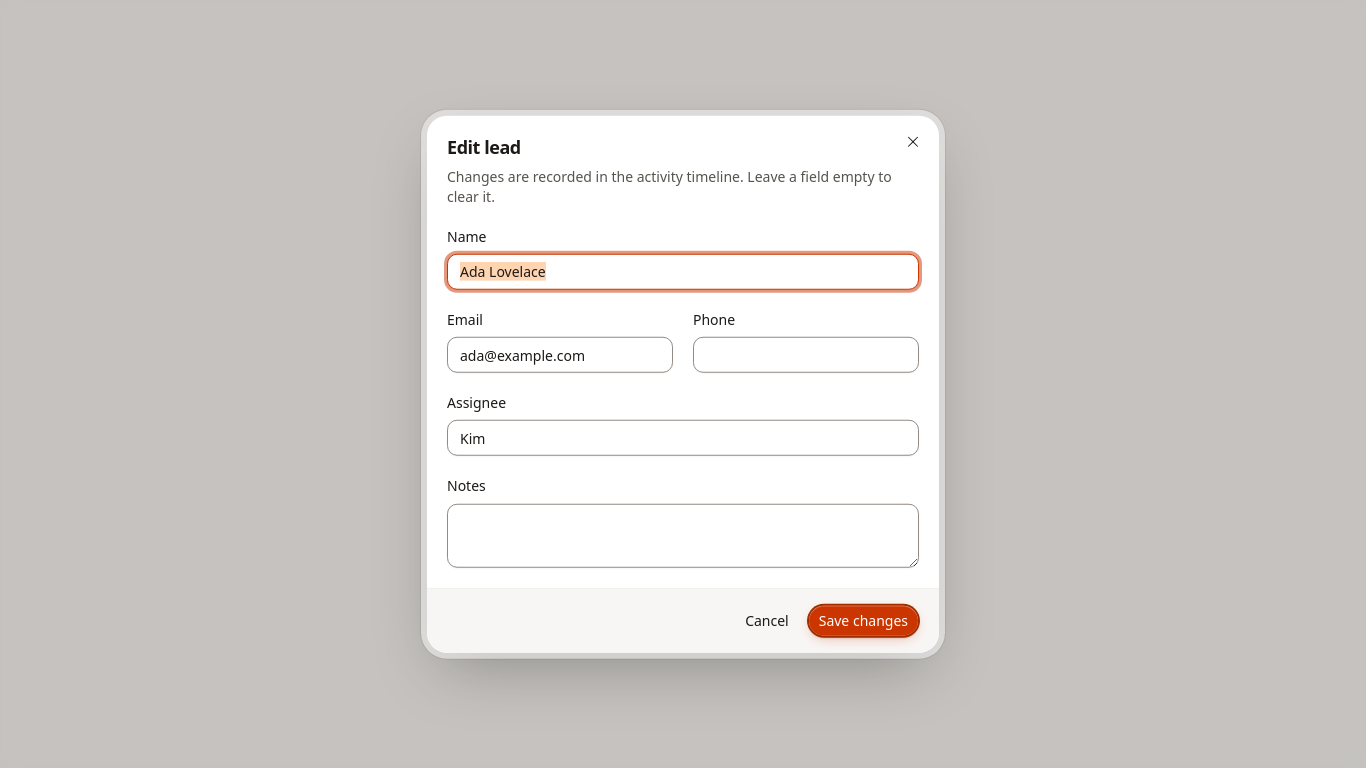
Scenario: EditLeadDialog › puts server-side validation errors on the matching field
The width and height of the screenshot is (1366, 768).
Click the button "Save changes".
click(863, 620)  # box x1=808 y1=604 x2=919 y2=636
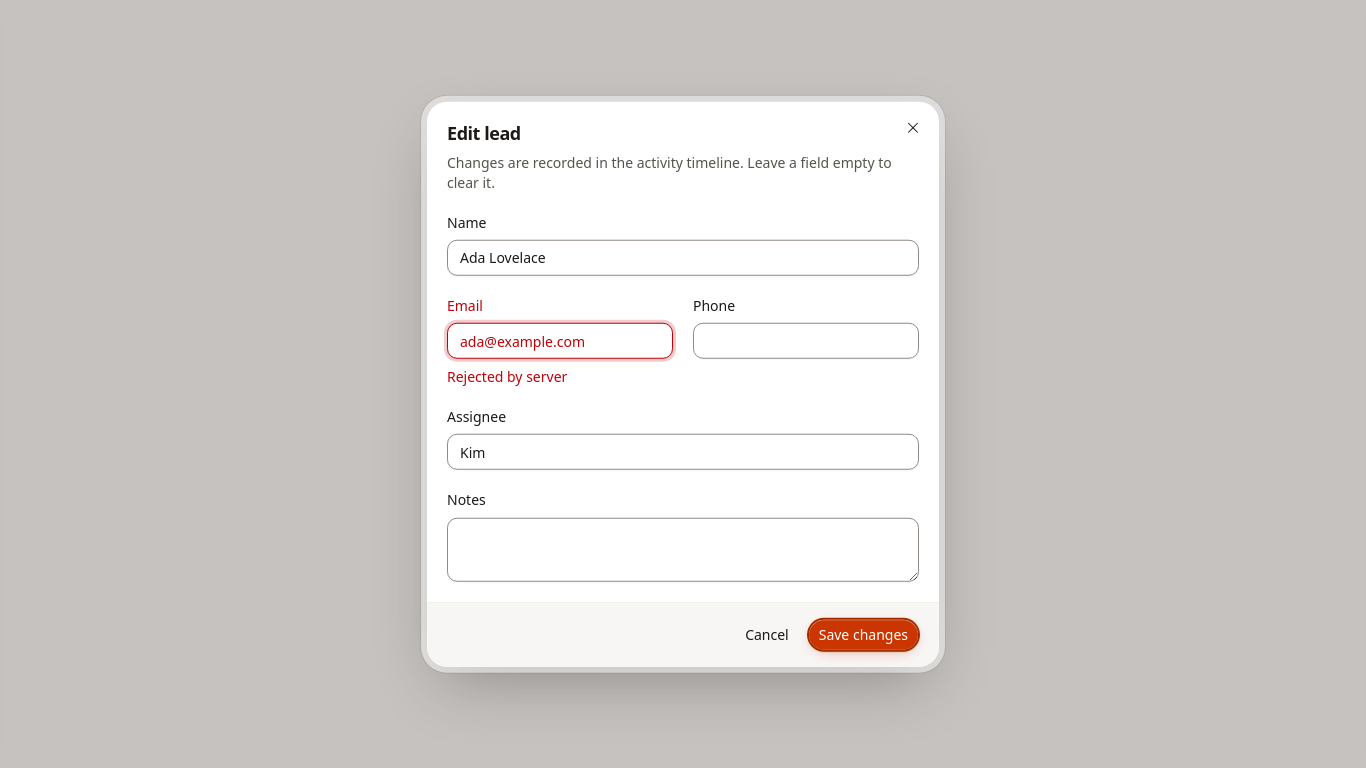
Result: the text "Rejected by server" is shown at x1=447 y1=367 x2=567 y2=386
